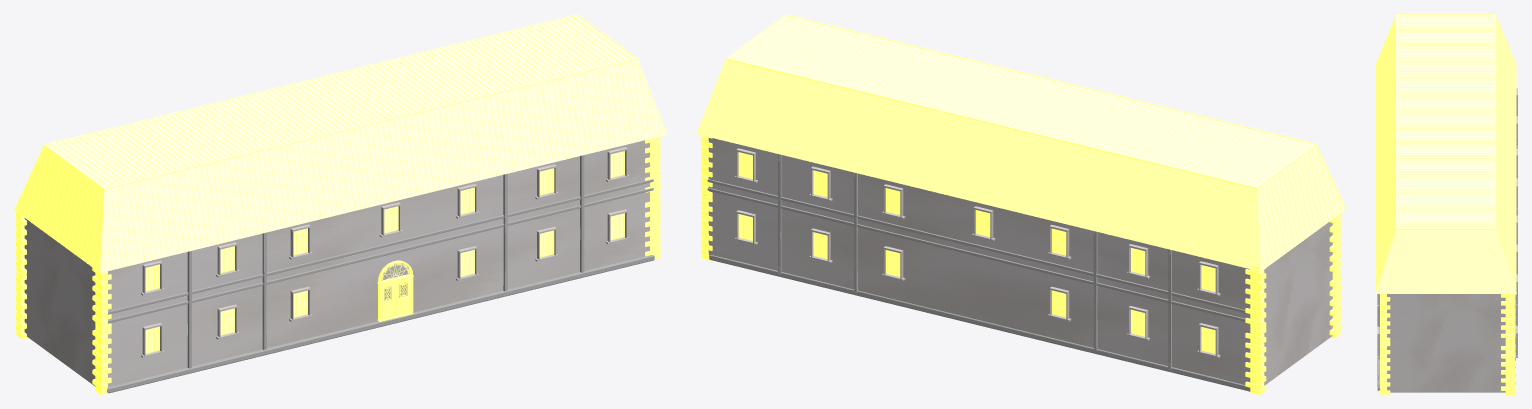
File: Building 03 re.fbx
3 renders of one model, left to right at view 1: azimuth 30°, elevation 25°; view 2: azimuth 150°, elevation 25°; view 3: azimuth 270°, elevation 25°, orthographic. The views are drawn at different scales.
Visible parts, largest first — view 1: LOD_0; view 2: LOD_0; view 3: LOD_0.
Part boxes in pixels (x1=…): LOD_0: x1=14, y1=14, x2=667, y2=394; LOD_0: x1=696, y1=14, x2=1346, y2=394; LOD_0: x1=1375, y1=14, x2=1517, y2=394.
Size of what is drawn, in the model's own units: 3064 by 1011 by 810.
